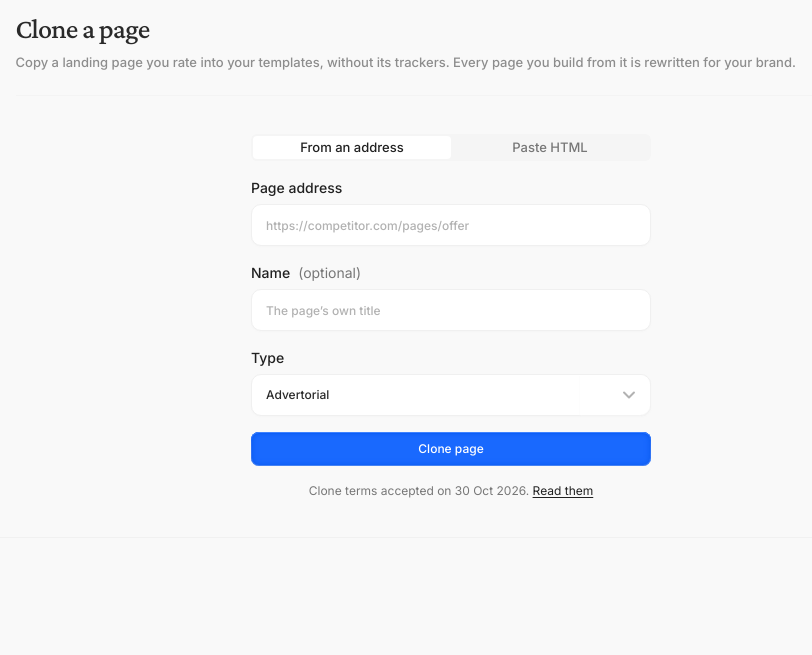
Test case: CloneFlow › shows what was cloned with its warnings when the job finishes
Type "https://resilia.shop/pages/gut" into the field labelled "Page address" at (451, 225), box [251, 204, 651, 246]
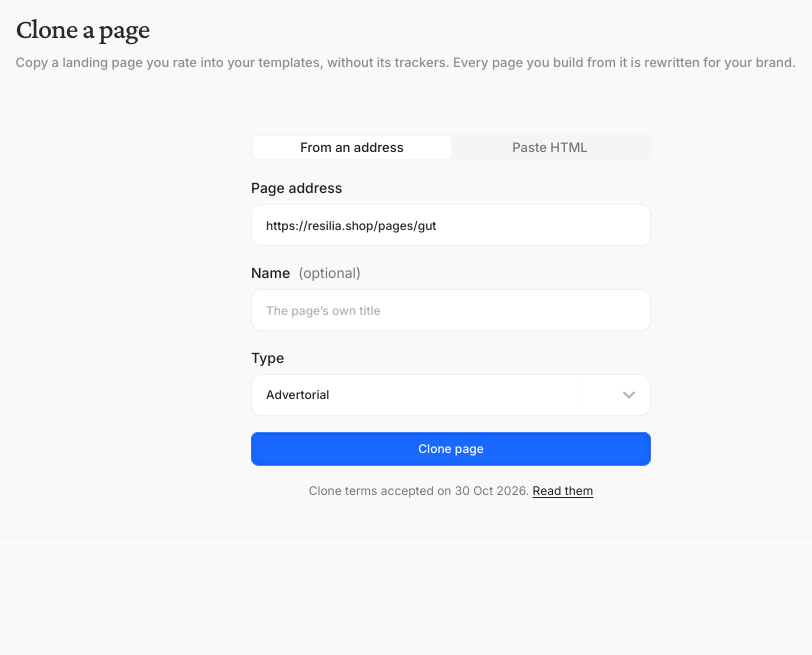
Click the button "Clone page" at (451, 449), box [251, 432, 651, 466]
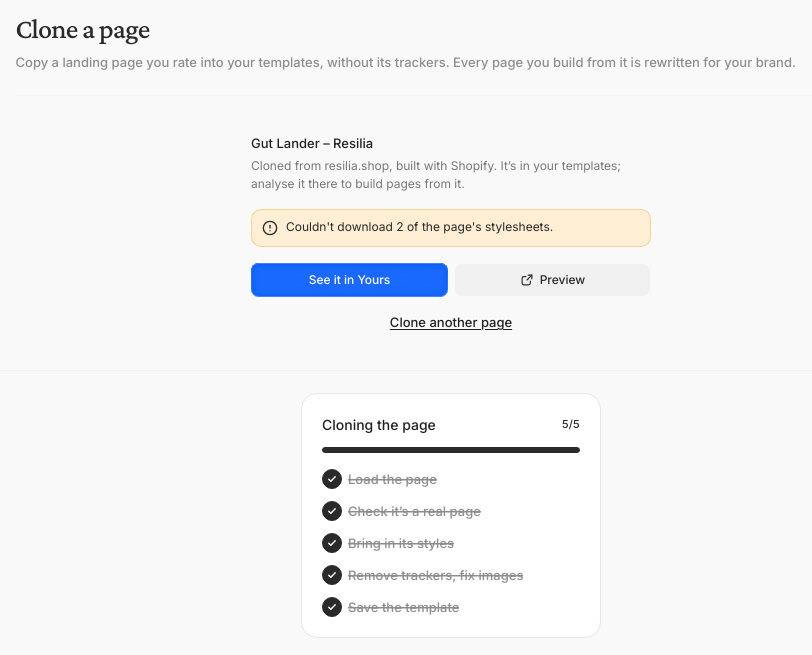
Check: the text "Gut Lander – Resilia" is shown, box [251, 135, 373, 151]
Check: the text "Cloned from resilia.shop, built with Shopify" is shown, box [251, 157, 651, 193]
Check: the text "Couldn't download 2 of the page's stylesheets." is shown, box [286, 219, 553, 234]
